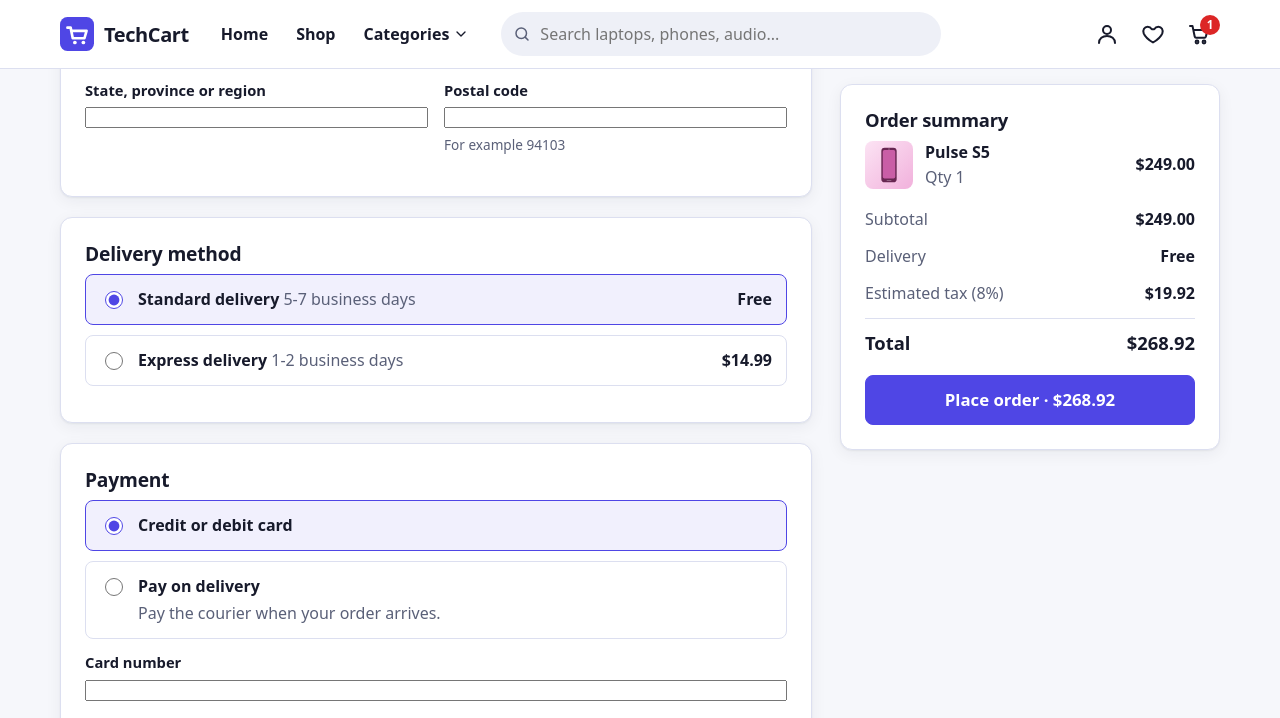
order summary › recalculates when express delivery is chosen
(page scrolled)
Click the radio button labelled "Express delivery 1-2 business days $14.99" at (114, 361), box top-left (105, 352), bottom-right (123, 370)
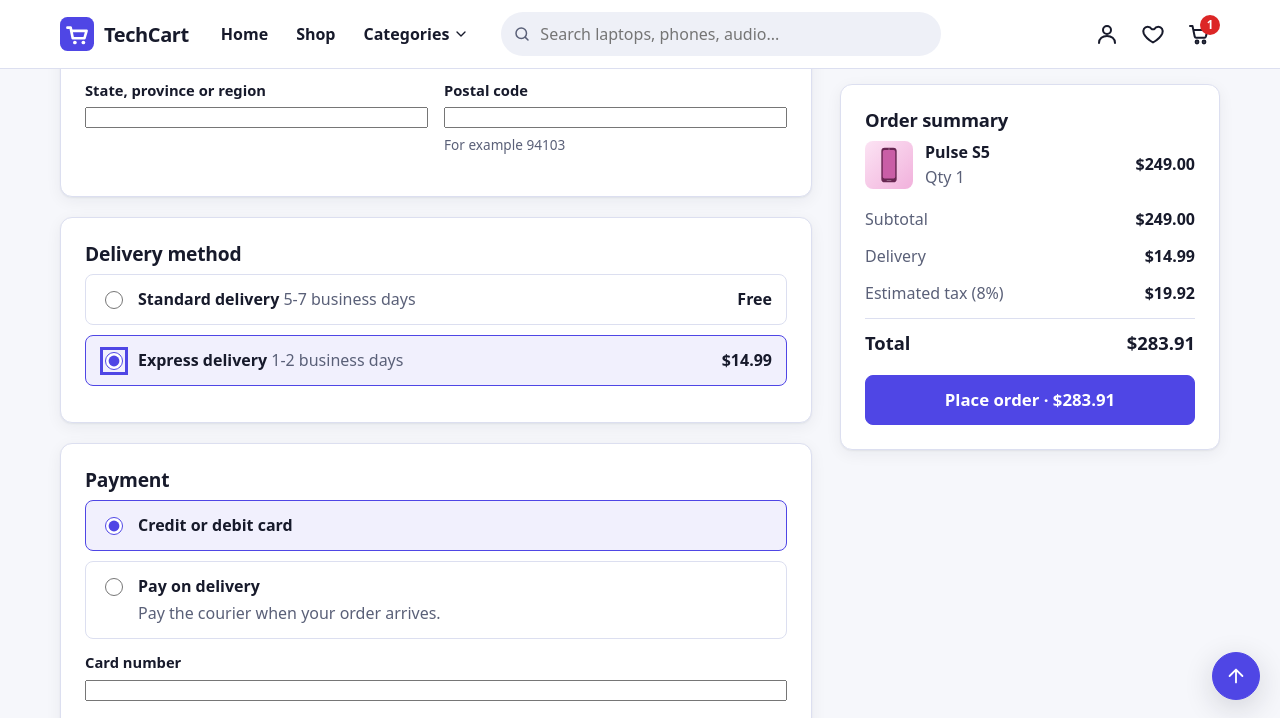
Expected: the text "$14.99" below "Subtotal" is shown, top-left (1145, 246), bottom-right (1195, 268)
Expected: the text "$283.91" is shown, top-left (1127, 329), bottom-right (1195, 358)
